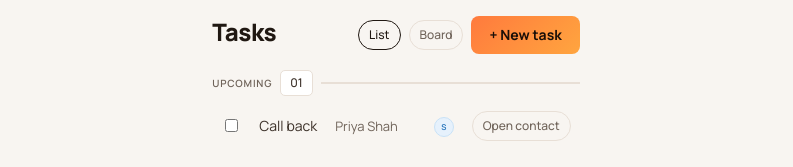
Test: TasksPage board view › fetches and renders done tasks when Board is selected
Check: the text "Call back" is shown, box [250,102,326,150]
Click the button "Board". click: (436,35)
box: [408,20,464,50]
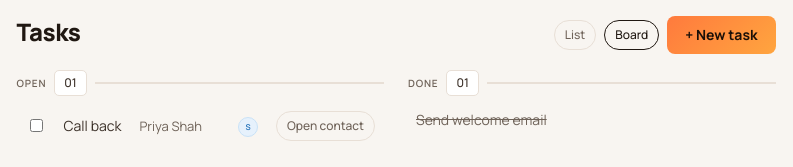
Check: the list item "Send welcome email" is shown, box [416,110,547,129]
